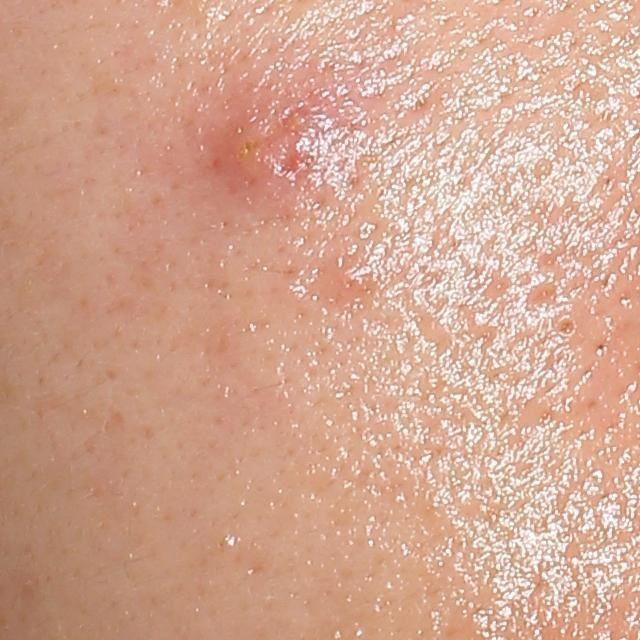comedo: (544, 311, 584, 346)
